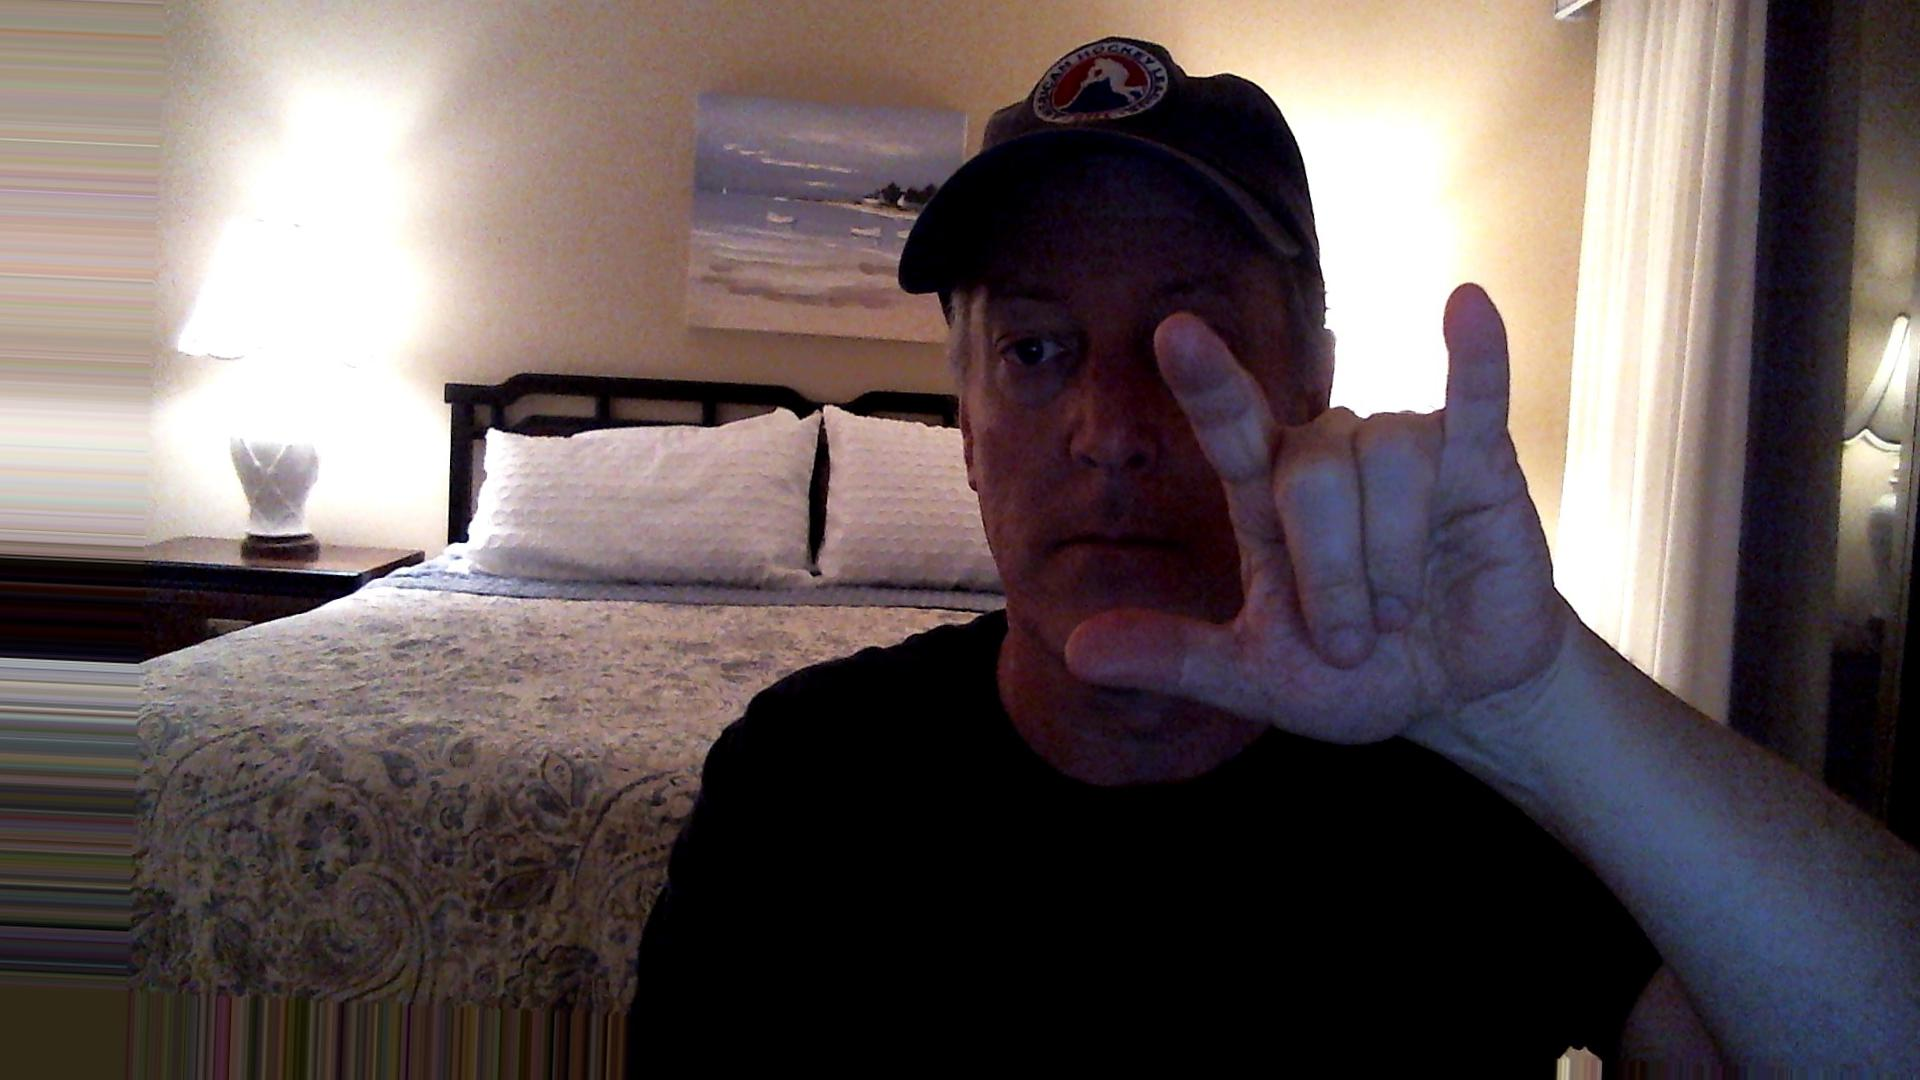I Love You: (1009, 268, 1629, 782)
